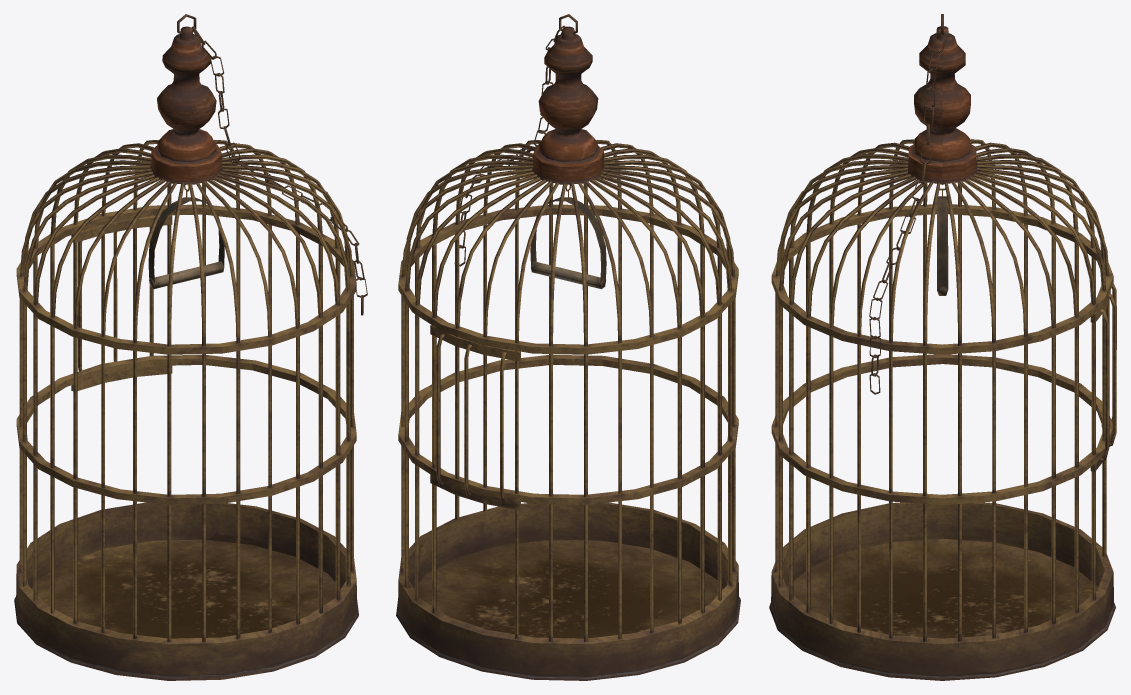
Rendered from torikago.fbx.
3 renders of one model, left to right at view 1: azimuth 30°, elevation 25°; view 2: azimuth 150°, elevation 25°; view 3: azimuth 270°, elevation 25°, orthographic.
Visible parts, largest first — view 1: pCylinder6; view 2: pCylinder6; view 3: pCylinder6.
Boxes of the visible parts, box(x1,y1,x2,y2) form: pCylinder6: box(14, 14, 367, 680); pCylinder6: box(396, 14, 740, 680); pCylinder6: box(769, 14, 1116, 680).
Size of the model in its own units: 31.53 by 59.55 by 31.61.
